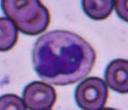N: (32, 29, 96, 84)
